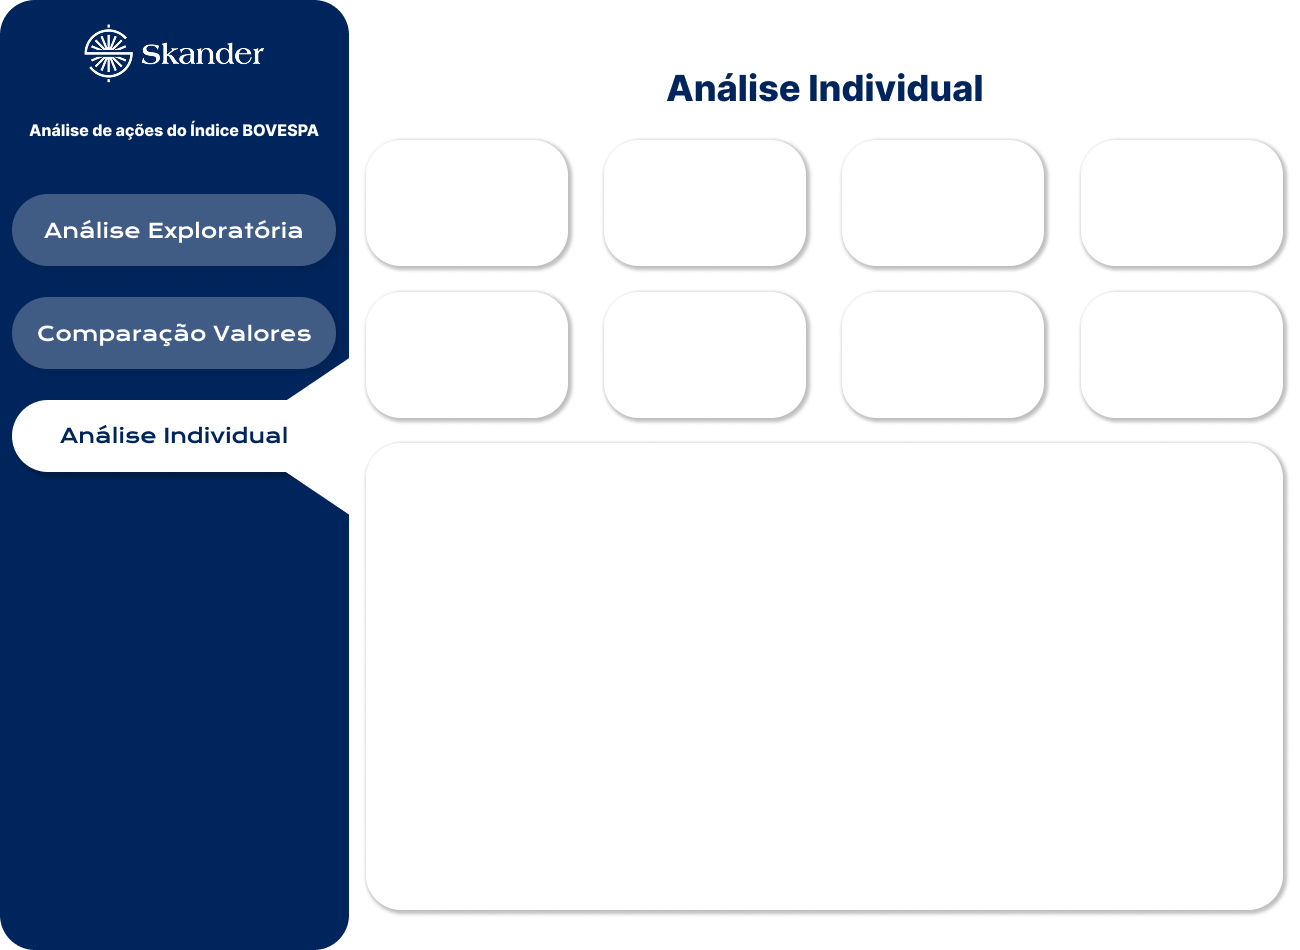

This screenshot's page, from the dashboard's own definition file:
{"tool":"tableau","page":{"name":"Análise Individual","canvas":[1300,950],"ordinal":1},"visuals":[{"type":"image","param":"C:/Users/caiop/DIO/stock-analysis-bovespa/assets/layout/Análise Individual.png","box":[8,8,1284,934]},{"type":"filter","title":"Cotação Diária: ","param":"[federated.1lgtqhx1wvik9m13a2rn50s5dupd].[none:Ticker:nk]","box":[377,70,185,53]},{"type":"worksheet","title":"ROE","mark":"Automatic","box":[618,155,172,107]},{"type":"worksheet","title":"Cotação Atual","mark":"Automatic","box":[385,158,173,102]},{"type":"worksheet","title":"Margem Líquida","mark":"Automatic","box":[851,158,170,105]},{"type":"worksheet","title":"CAGR (5 anos)","mark":"Automatic","box":[1080,159,176,100]},{"type":"dashboard-object","box":[33,201,304,70]},{"type":"dashboard-object","box":[36,301,296,70]},{"type":"worksheet","title":"P/L","mark":"Automatic","box":[382,306,178,102]},{"type":"worksheet","title":"ROIC","mark":"Automatic","box":[618,306,172,104]},{"type":"worksheet","title":"Dividendo Yield","mark":"Automatic","box":[1083,306,171,104]},{"type":"worksheet","title":"Liquidez Corrente","mark":"Automatic","box":[849,308,174,101]},{"type":"filter","title":"Cotação Diária: ","param":"[federated.1lgtqhx1wvik9m13a2rn50s5dupd].[none:date:qk]","box":[1086,450,160,65]},{"type":"worksheet","title":"Cotação Diária: ","mark":"GanttBar","rows":["High","Open"],"cols":["date"],"box":[385,451,868,440]},{"type":"worksheet","title":"Empresa","mark":"Automatic","box":[19,557,333,74]},{"type":"worksheet","title":"Setor","mark":"Automatic","box":[19,625,333,71]},{"type":"worksheet","title":"Subsetor","mark":"Automatic","box":[20,670,332,45]}]}

Visuals, with their boxes on the page's 1300x950 design canvas (x1, y1, x2, y2). These are canvas units, not pixel positions in the 1300x950 screenshot, which may show the page scaled, cropped or inside an application window:
image: box(8, 8, 1292, 942)
"Cotação Diária: " filter: box(377, 70, 562, 123)
"ROE" worksheet: box(618, 155, 790, 262)
"Cotação Atual" worksheet: box(385, 158, 558, 260)
"Margem Líquida" worksheet: box(851, 158, 1021, 263)
"CAGR (5 anos)" worksheet: box(1080, 159, 1256, 259)
dashboard-object: box(33, 201, 337, 271)
dashboard-object: box(36, 301, 332, 371)
"P/L" worksheet: box(382, 306, 560, 408)
"ROIC" worksheet: box(618, 306, 790, 410)
"Dividendo Yield" worksheet: box(1083, 306, 1254, 410)
"Liquidez Corrente" worksheet: box(849, 308, 1023, 409)
"Cotação Diária: " filter: box(1086, 450, 1246, 515)
"Cotação Diária: " worksheet (GanttBar marks): box(385, 451, 1253, 891)
"Empresa" worksheet: box(19, 557, 352, 631)
"Setor" worksheet: box(19, 625, 352, 696)
"Subsetor" worksheet: box(20, 670, 352, 715)
